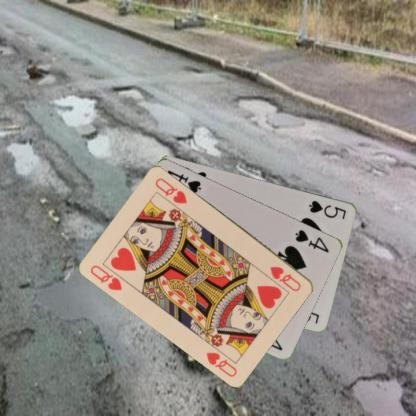4s: (292, 226, 330, 254)
5s: (306, 198, 348, 220)
Qh: (87, 262, 124, 292), (268, 263, 302, 293)
